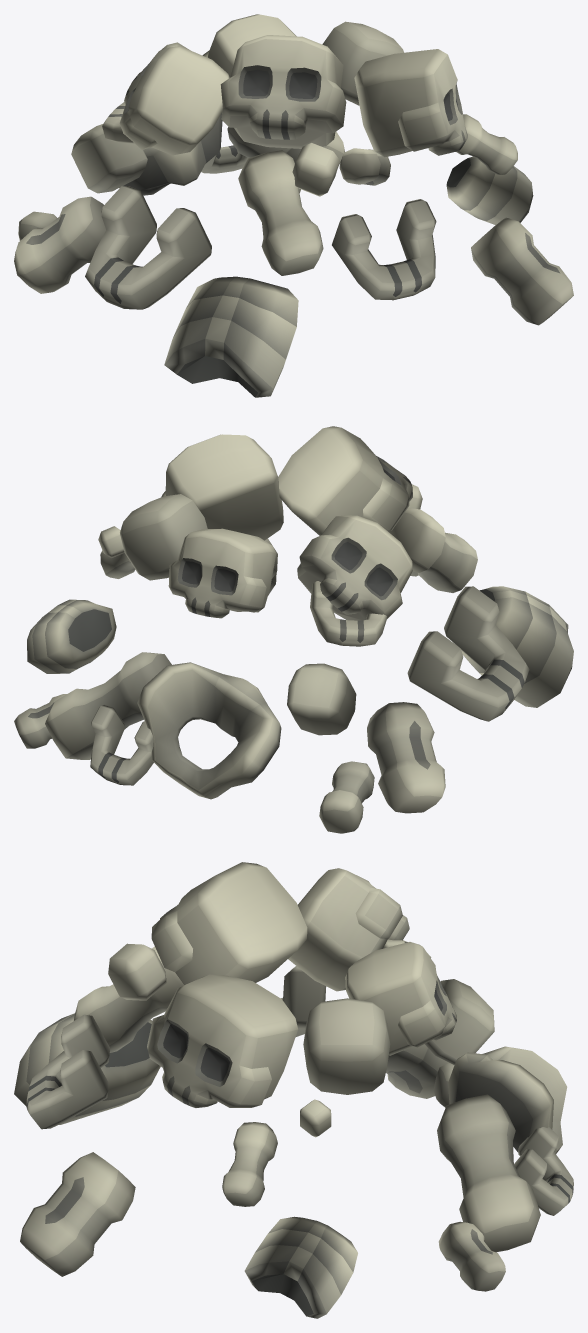
File: skull_pile_small_skulls.fbx
3 views of the same model, one above another, from view 1: azimuth 30°, elevation 25°; view 2: azimuth 150°, elevation 25°; view 3: azimuth 270°, elevation 25° (orthographic). The views are drawn at different scales.
Visible parts, largest first — view 1: skull_pile_small_skulls; view 2: skull_pile_small_skulls; view 3: skull_pile_small_skulls.
Boxes of the visible parts, bbox=[...] form: skull_pile_small_skulls: bbox=[14, 14, 573, 397]; skull_pile_small_skulls: bbox=[14, 426, 573, 833]; skull_pile_small_skulls: bbox=[14, 862, 573, 1318].
Bounding box in the file's own units: 262 × 151 × 246.
